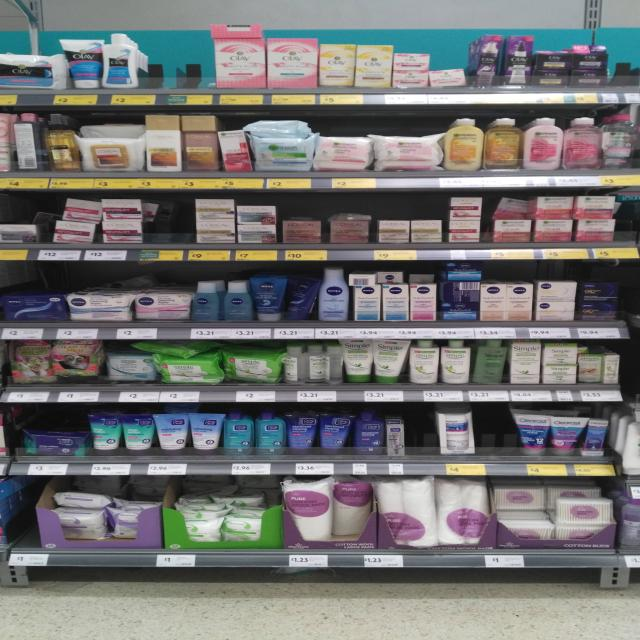empty: (133, 27, 226, 100), (140, 190, 193, 253), (476, 397, 524, 460), (405, 399, 433, 463)
